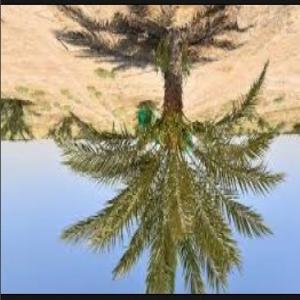palm tree: (48, 3, 299, 292)
